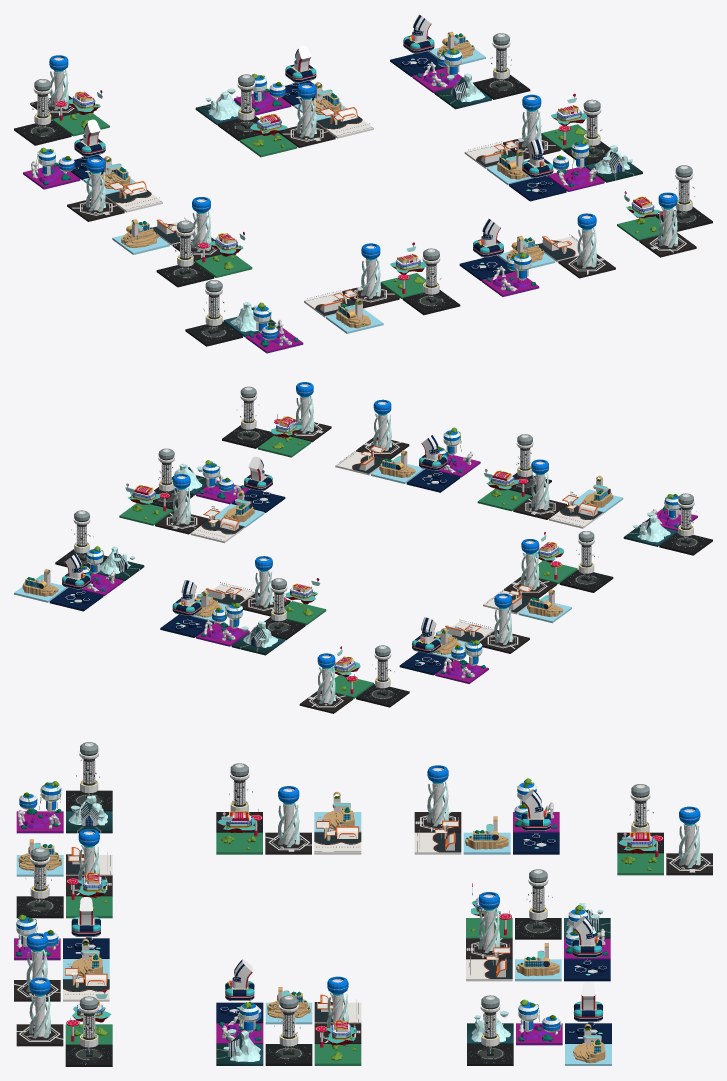
Rendered from D9_Commerce_Part_1.fbx.
3 views of the same model, one above another, from view 1: azimuth 30°, elevation 25°; view 2: azimuth 150°, elevation 25°; view 3: azimuth 270°, elevation 25° (orthographic). The views are drawn at different scales.
Visible parts, largest first — view 1: Cube.504, Cube.609, Cube.613, Cube.520, Cube.107, Cube.605, Cube.142, Cube.507, Cube.512, Cube.596, Cube.524, Cube.144 (+37 smaller); view 2: Cube.142, Cube.605, Cube.102, Cube.516, Cube.514, Cube.603, Cube.509, Cube.520, Cube.518, Cube.105, Cube.524, Cube.599 (+37 smaller); view 3: Cube.516, Cube.102, Cube.613, Cube.514, Cube.593, Cube.597, Cube.601, Cube.506, Cube.612, Cube.511, Cube.104, Cube.522 (+38 smaller).
Part boxes in pixels (box(x1,y1,x2,y2)): Cube.504: box(509, 139, 566, 201); Cube.609: box(558, 213, 615, 278); Cube.613: box(639, 192, 696, 257); Cube.520: box(67, 157, 124, 221); Cube.107: box(278, 83, 335, 147); Cube.605: box(459, 218, 516, 280); Cube.142: box(390, 14, 446, 76); Cube.507: box(547, 139, 604, 191); Cube.512: box(14, 79, 71, 145); Cube.596: box(185, 280, 242, 346); Cube.524: box(156, 220, 214, 287); Cube.144: box(473, 33, 530, 99); Cube.142: box(49, 553, 103, 611); Cube.605: box(406, 435, 459, 492); Cube.102: box(160, 580, 213, 637); Cube.516: box(399, 617, 453, 675); Cube.514: box(299, 653, 353, 713); Cube.603: box(513, 459, 566, 519); Cube.509: box(155, 474, 208, 534); Cube.520: box(479, 593, 529, 653); Cube.518: box(435, 640, 488, 683); Cube.105: box(196, 602, 249, 646); Cube.524: box(559, 531, 613, 592); Cube.599: box(477, 469, 531, 511); Cube.516: box(513, 789, 559, 854); Cube.102: box(564, 916, 610, 981); Cube.613: box(16, 977, 63, 1046); Cube.514: box(666, 806, 712, 875); Cube.593: box(265, 786, 311, 854); Cube.597: box(16, 781, 63, 833); Cube.601: box(16, 847, 63, 918); Cube.506: box(265, 995, 312, 1065); Cube.612: box(65, 996, 112, 1066); Cube.511: box(617, 831, 663, 875); Cube.104: box(515, 869, 561, 939); Cube.522: box(216, 809, 262, 854).
Size of the model in its own units: 55540 by 5500 by 59866.
Materials: 22 (20 with a texture image).
